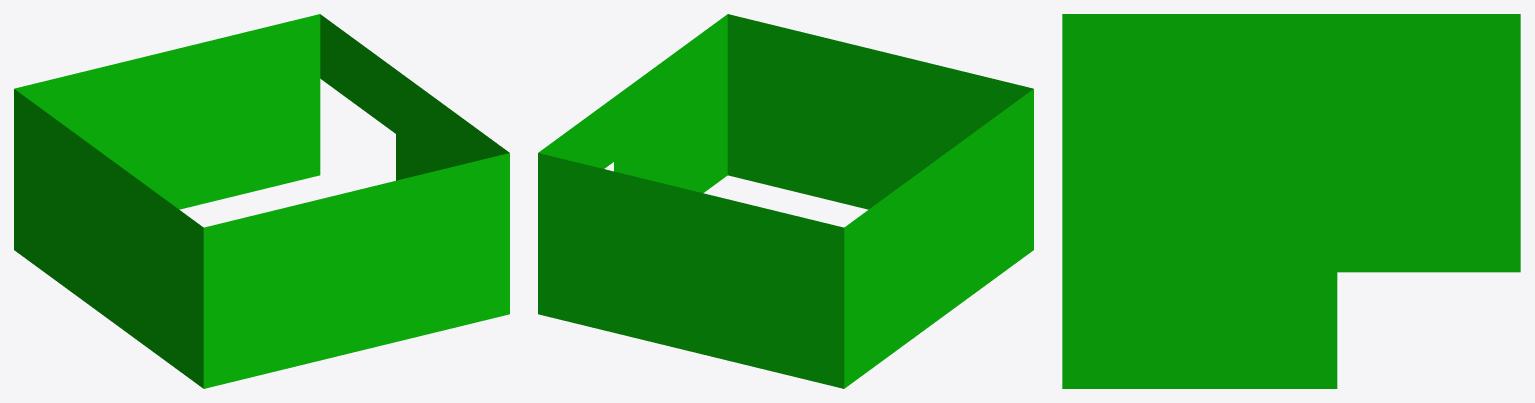
The model's file is Expo_room_sans_plancher_U.fbx.
3 views of the same model, side by side, from view 1: azimuth 30°, elevation 25°; view 2: azimuth 150°, elevation 25°; view 3: azimuth 270°, elevation 25° (orthographic). The views are drawn at different scales.
Visible parts, largest first — view 1: Expo_room; view 2: Expo_room; view 3: Expo_room.
Part boxes in pixels (x1,y1,x2,y2): Expo_room: (14, 14, 509, 388); Expo_room: (538, 14, 1033, 388); Expo_room: (1062, 14, 1520, 388).
Bounding box in the file's own units: 4198 × 2114 × 4508.
